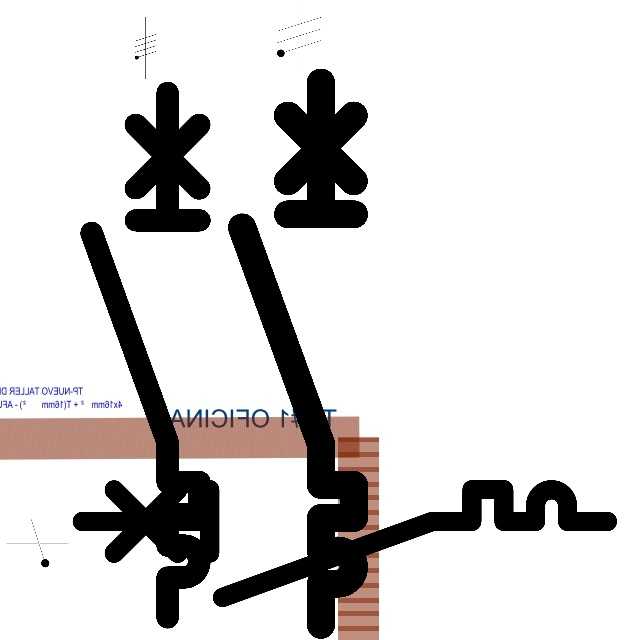interruptor_termomagnetico: (228, 68, 368, 639), (68, 476, 621, 611), (78, 79, 213, 631)
